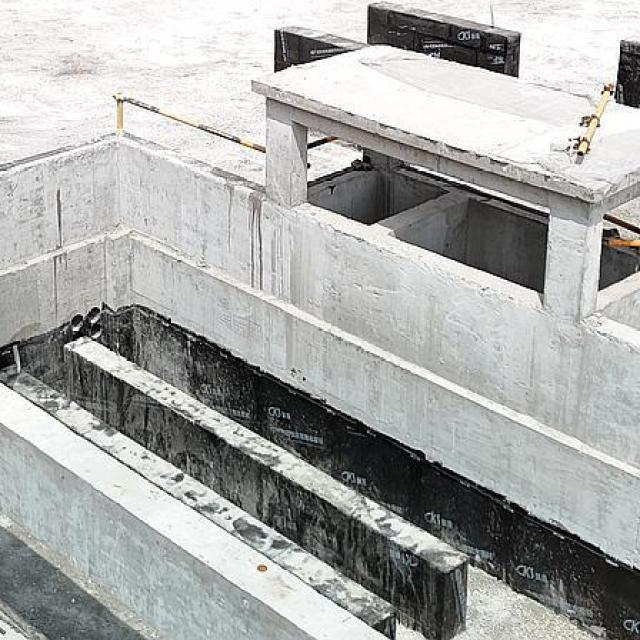edge_guardrail: (114, 92, 267, 154), (306, 136, 339, 150)
